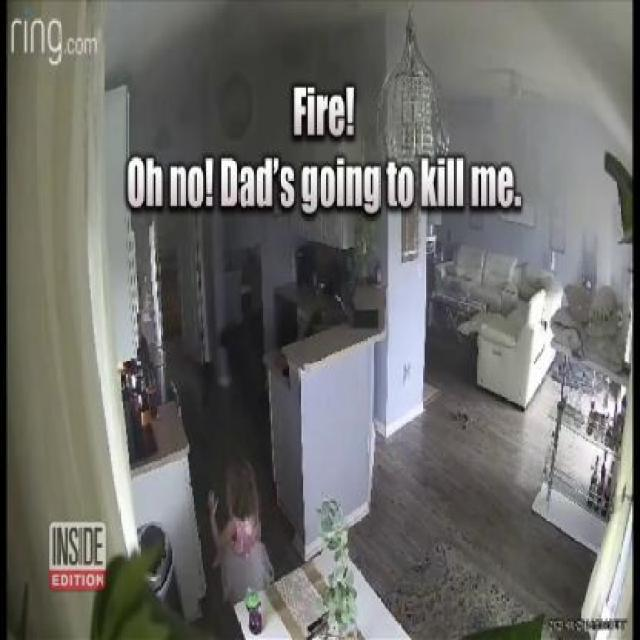smoke: (141, 25, 287, 146)
